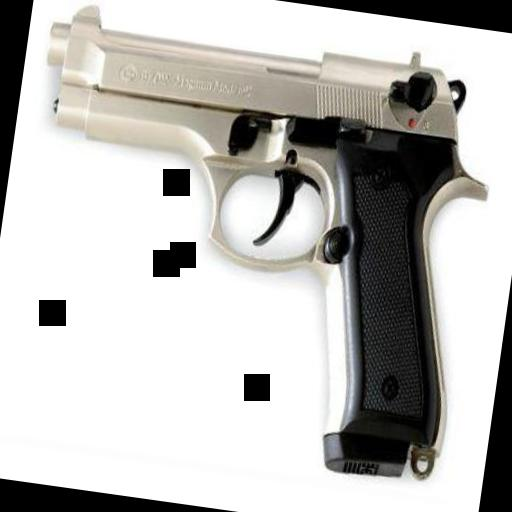Handgun: (0, 0, 507, 489)
